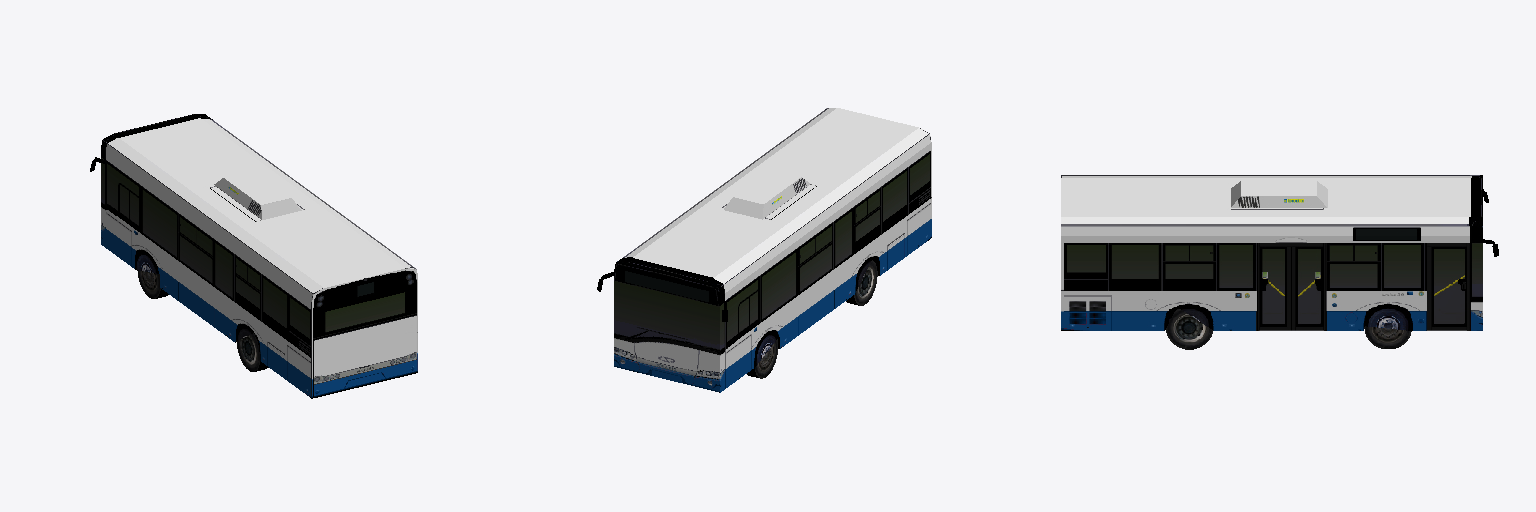
3 views of the same model, side by side, from view 1: azimuth 30°, elevation 25°; view 2: azimuth 150°, elevation 25°; view 3: azimuth 270°, elevation 25° (orthographic).
Parts seen in each view (by area): view 1: Box009, Cylinder004, Cylinder003; view 2: Box009, Cylinder004; view 3: Box009, Cylinder005, Cylinder002.
Boxes of the visible parts, x1,y1,x2,y2 form: Box009: [90, 114, 417, 398]; Cylinder004: [237, 333, 268, 371]; Cylinder003: [137, 270, 168, 298]; Box009: [597, 108, 931, 392]; Cylinder004: [846, 260, 877, 305]; Box009: [1061, 175, 1498, 330]; Cylinder005: [1166, 307, 1212, 349]; Cylinder002: [1364, 326, 1411, 348].
Bounding box in the file's own units: 3.27 × 3.38 × 9.85.
2 materials, 2 textured.